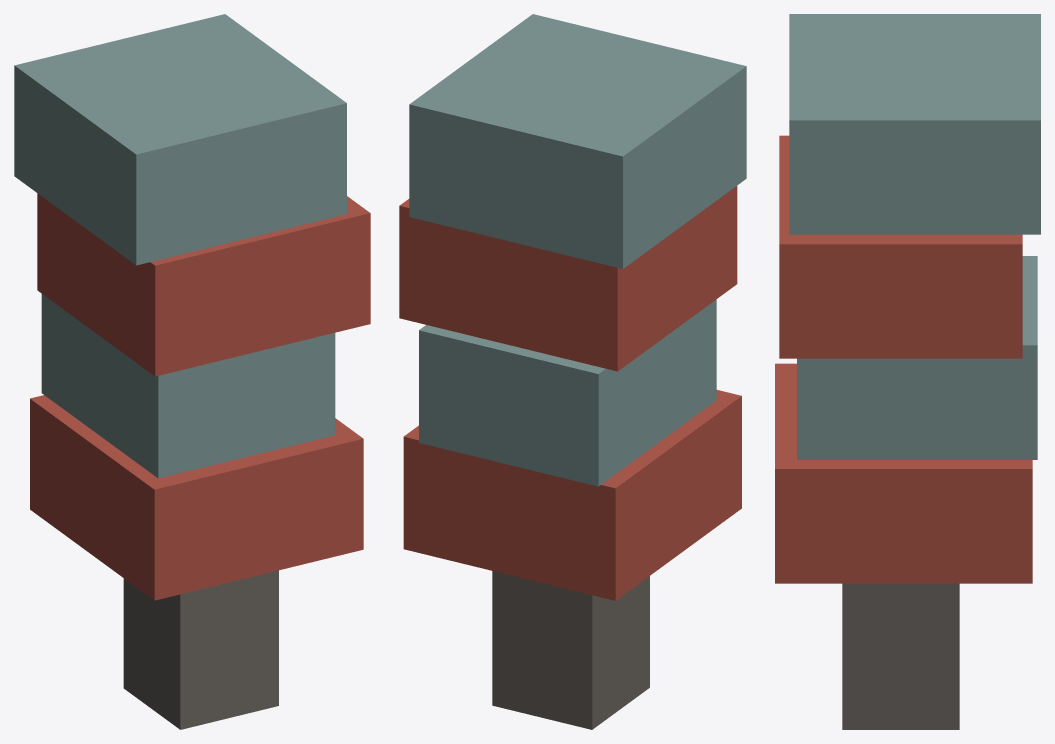
The model's file is cipresa.fbx.
3 views of the same model, side by side, from view 1: azimuth 30°, elevation 25°; view 2: azimuth 150°, elevation 25°; view 3: azimuth 270°, elevation 25° (orthographic). The views are drawn at different scales.
Visible parts, largest first — view 1: Model; view 2: Model; view 3: Model.
Part boxes in pixels (x1,y1,x2,y2): Model: (14, 14, 370, 729); Model: (399, 14, 746, 729); Model: (775, 14, 1040, 729).
Bounding box in the file's own units: 84.8 × 216 × 82.4.
